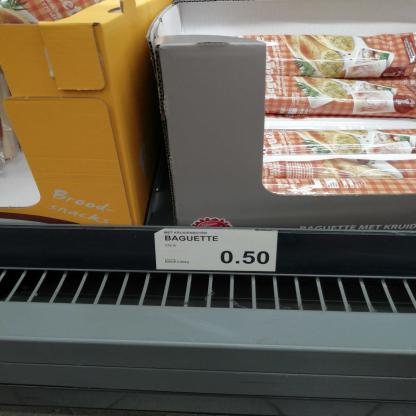prtg: (155, 229, 279, 272)
